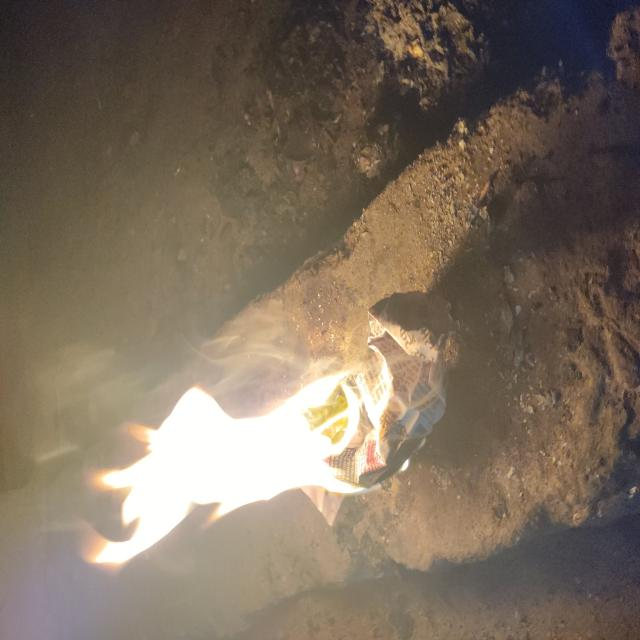Fire: (55, 107, 262, 608)
